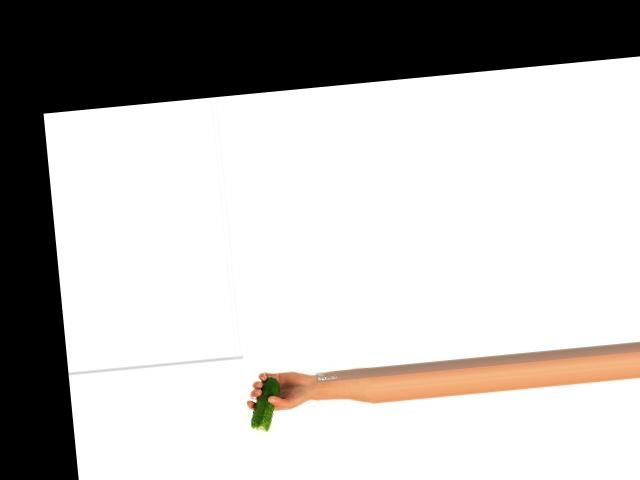cucumber: (247, 375, 283, 432)
